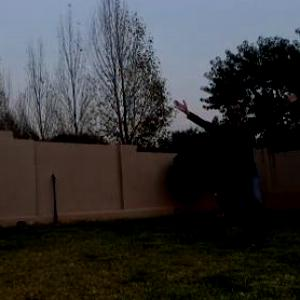takeoff: (172, 85, 296, 258)
